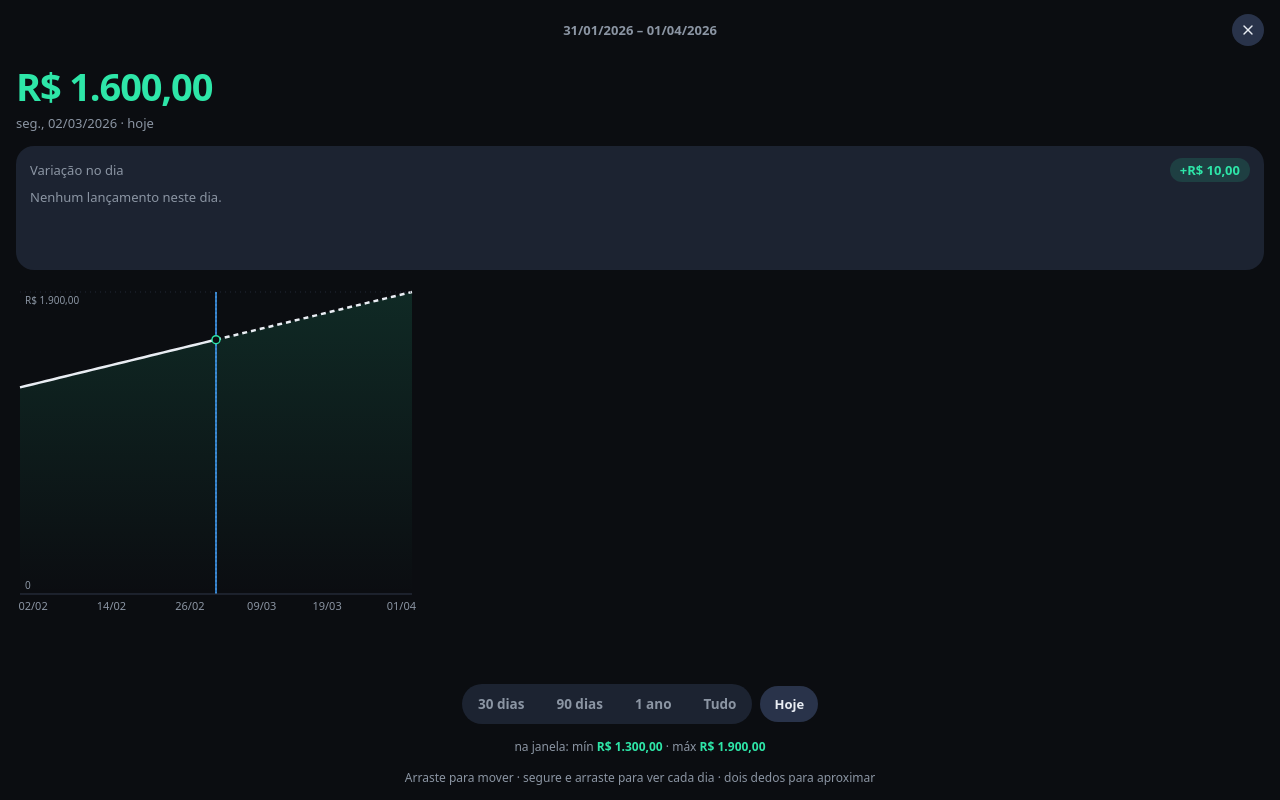
FluxoChartModal — gestos › um toque rápido seleciona o dia tocado
Press the mouse on the element with test id "grafico-expandido-area" at (216, 454), box [16,284,416,624]
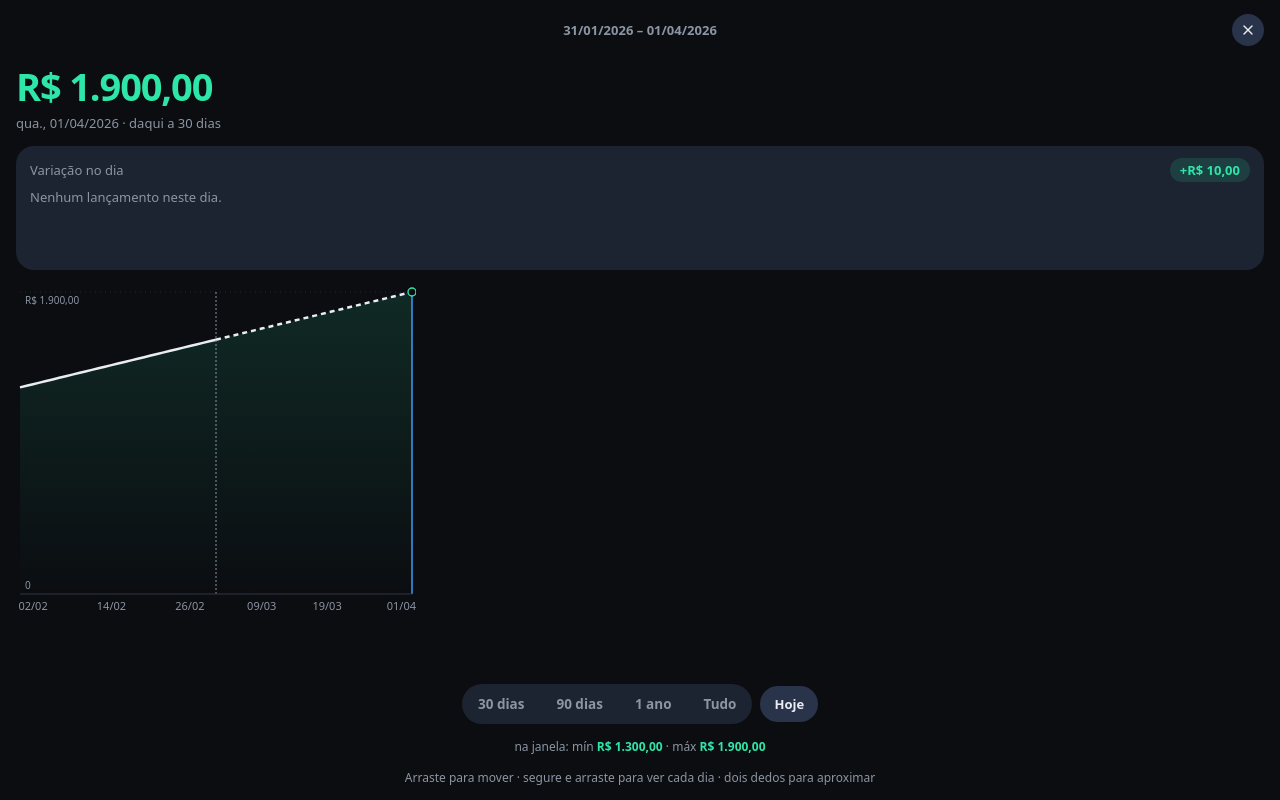
Check: the text with test id "grafico-expandido-leitura-data" shows "daqui a 30 dias", box [119,114,221,132]
